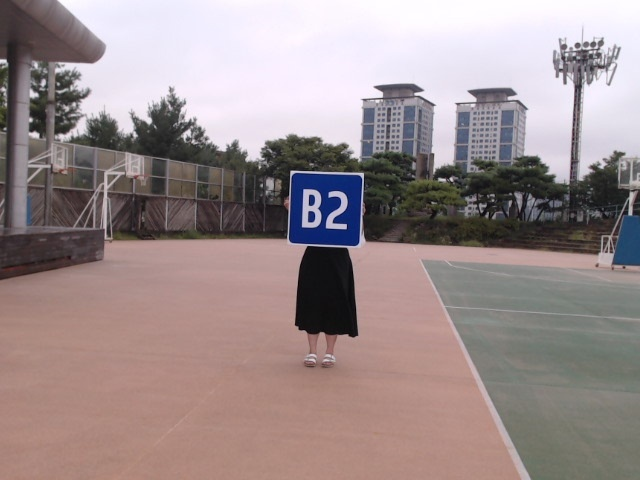delivery_b2: (289, 172, 363, 246)
